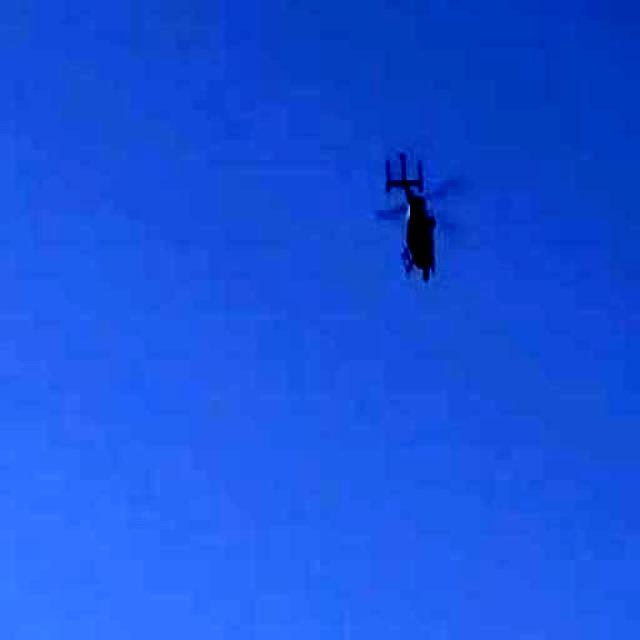drone: (358, 145, 478, 312)
